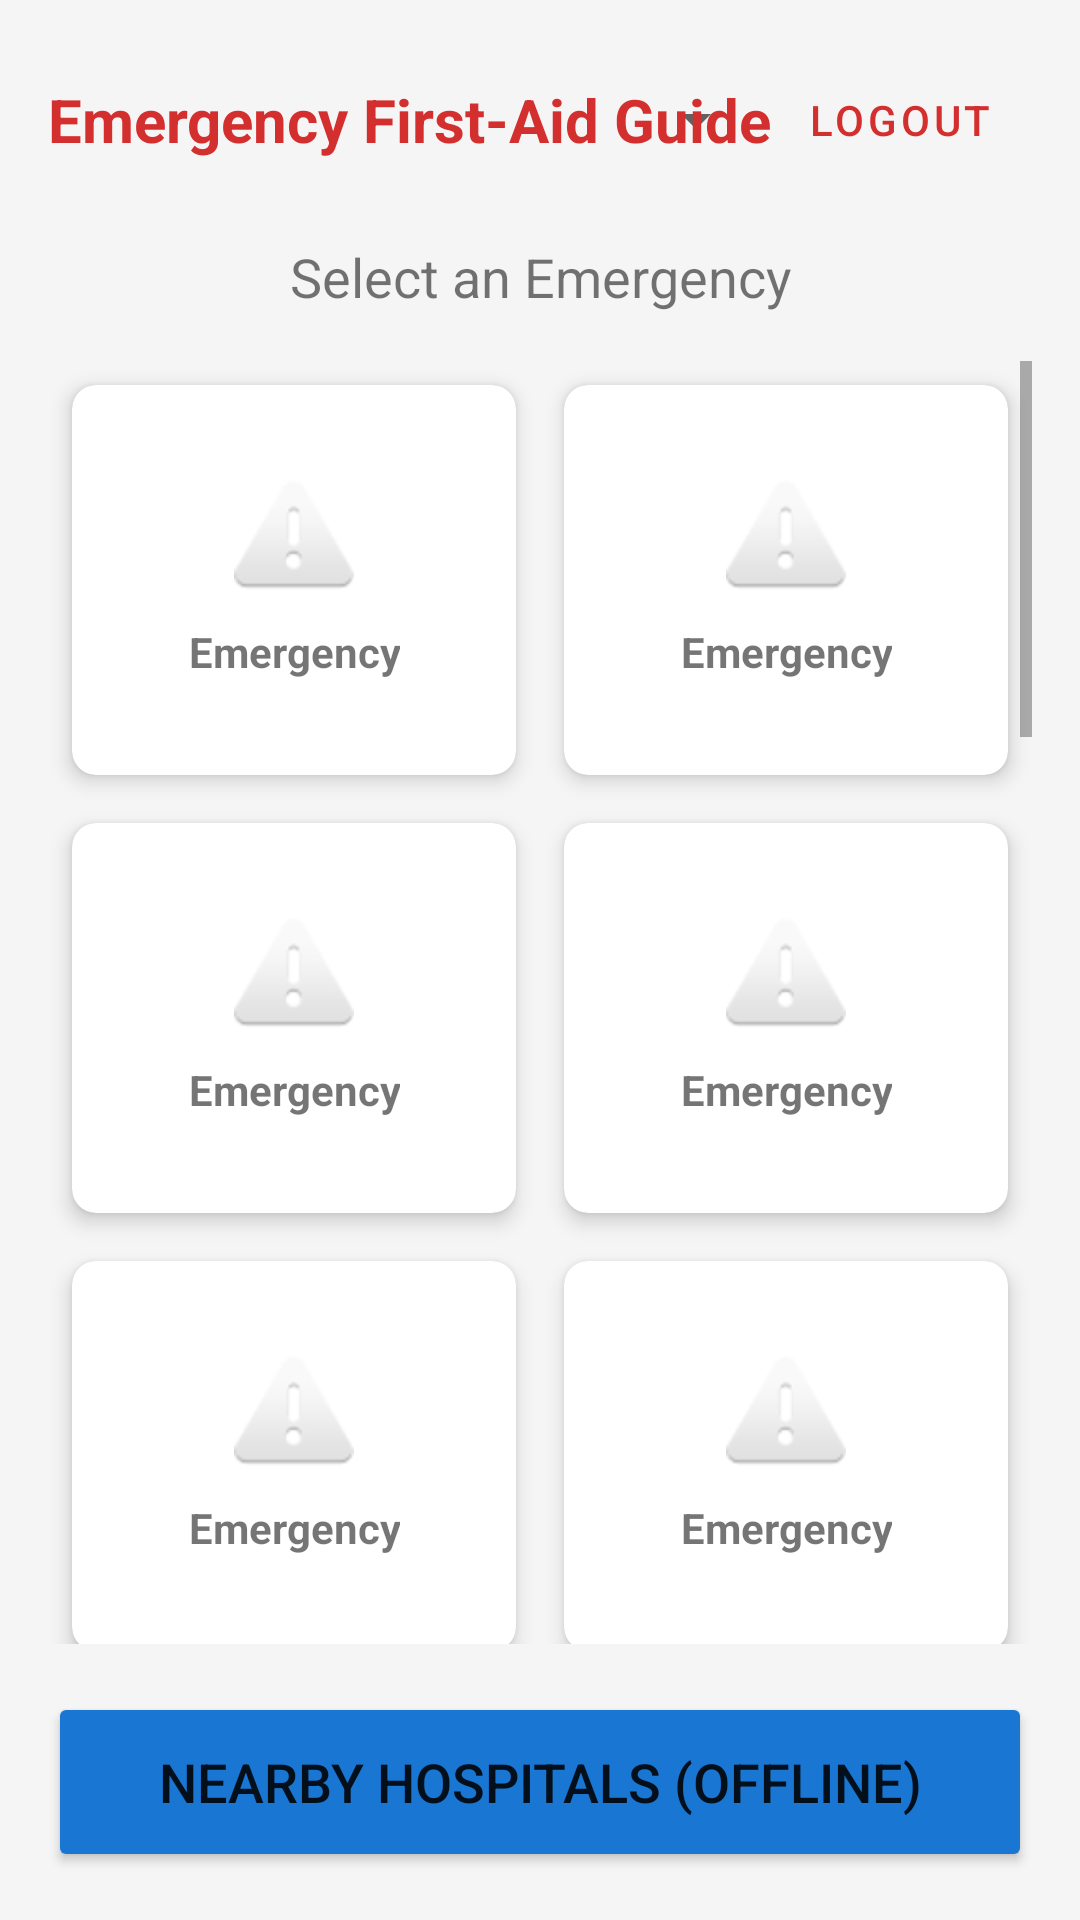

Named icons in this screenshot (1080x1920) and their centers, (x=x, y=y):
alert: (x=294, y=547), (x=786, y=547), (x=294, y=985), (x=786, y=985), (x=294, y=1423), (x=786, y=1423)
